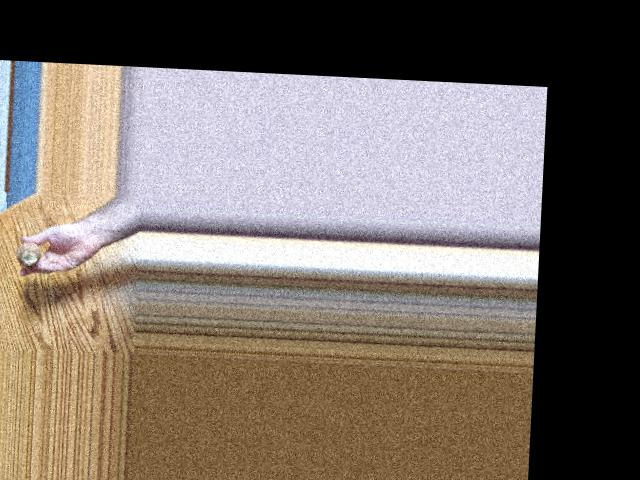sweet_potato: (15, 238, 38, 265)
